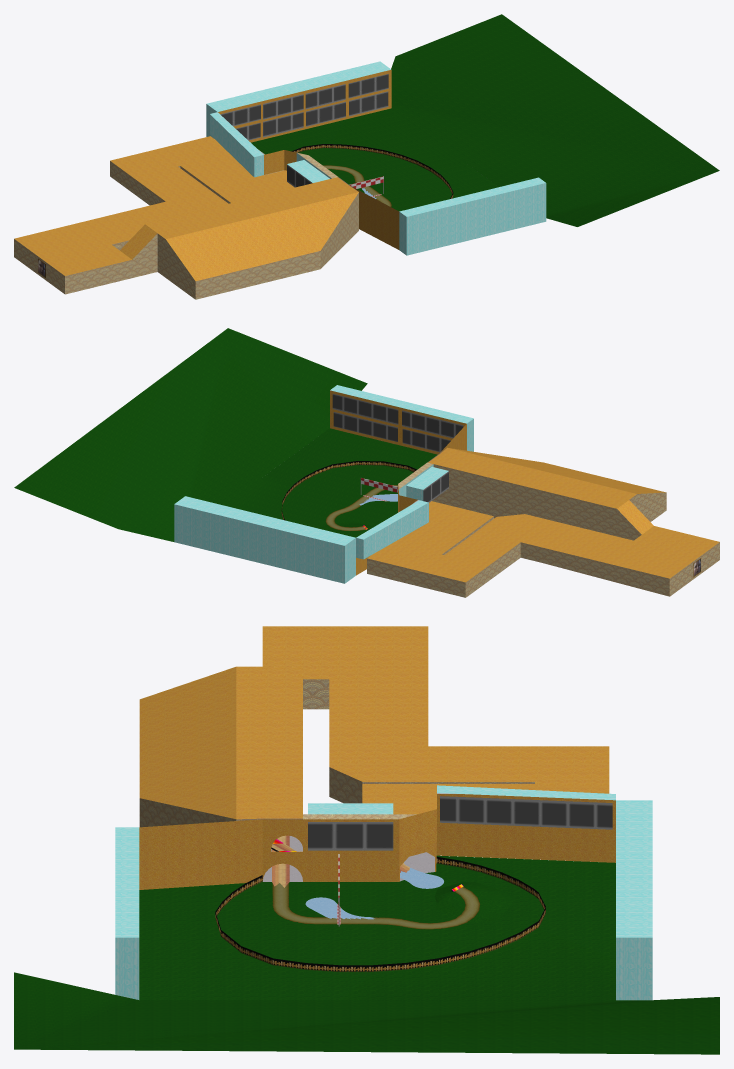
The picture shows the model from 3 angles, top to bottom: view 1: azimuth 30°, elevation 25°; view 2: azimuth 150°, elevation 25°; view 3: azimuth 270°, elevation 25°; orthographic projection. The views are drawn at different scales.
Visible parts, largest first — view 1: wacks_place-SKP--grass, wacks_place-SKP--Material4, wacks_place-SKP--window, wacks_place-SKP--Material3, wacks_place-SKP--Material13, wacks_place-SKP--fence, wacks_place-SKP--road_out; view 2: wacks_place-SKP--grass, wacks_place-SKP--Material4, wacks_place-SKP--Material3, wacks_place-SKP--window, wacks_place-SKP--Material13, wacks_place-SKP--fence, wacks_place-SKP--road_out; view 3: wacks_place-SKP--grass, wacks_place-SKP--Material4, wacks_place-SKP--window, wacks_place-SKP--Material13, wacks_place-SKP--Material3, wacks_place-SKP--fence, wacks_place-SKP--road_out, wacks_place-SKP--Material10, wacks_place-SKP--Material7.
Boxes of the visible parts, x1=… form: wacks_place-SKP--grass: x1=251, y1=14, x2=719, y2=226; wacks_place-SKP--Material4: x1=14, y1=69, x2=399, y2=281; wacks_place-SKP--window: x1=206, y1=61, x2=546, y2=255; wacks_place-SKP--Material3: x1=14, y1=152, x2=358, y2=299; wacks_place-SKP--Material13: x1=220, y1=74, x2=388, y2=187; wacks_place-SKP--fence: x1=291, y1=144, x2=453, y2=198; wacks_place-SKP--road_out: x1=323, y1=165, x2=392, y2=207; wacks_place-SKP--grass: x1=14, y1=328, x2=437, y2=541; wacks_place-SKP--Material4: x1=330, y1=390, x2=719, y2=582; wacks_place-SKP--Material3: x1=367, y1=462, x2=719, y2=597; wacks_place-SKP--window: x1=174, y1=385, x2=473, y2=583; wacks_place-SKP--Material13: x1=332, y1=393, x2=463, y2=502; wacks_place-SKP--fence: x1=281, y1=461, x2=416, y2=520; wacks_place-SKP--road_out: x1=325, y1=484, x2=397, y2=531; wacks_place-SKP--grass: x1=14, y1=855, x2=719, y2=1054; wacks_place-SKP--Material4: x1=139, y1=626, x2=615, y2=889; wacks_place-SKP--window: x1=115, y1=785, x2=652, y2=1000; wacks_place-SKP--Material13: x1=308, y1=796, x2=612, y2=850; wacks_place-SKP--Material3: x1=139, y1=679, x2=534, y2=860; wacks_place-SKP--fence: x1=215, y1=857, x2=545, y2=972; wacks_place-SKP--road_out: x1=272, y1=882, x2=480, y2=929; wacks_place-SKP--Material10: x1=305, y1=868, x2=443, y2=919; wacks_place-SKP--Material7: x1=263, y1=836, x2=434, y2=926.
Size of the model in its own units: 180193 by 11637 by 117746.
36 materials, 35 textured.
